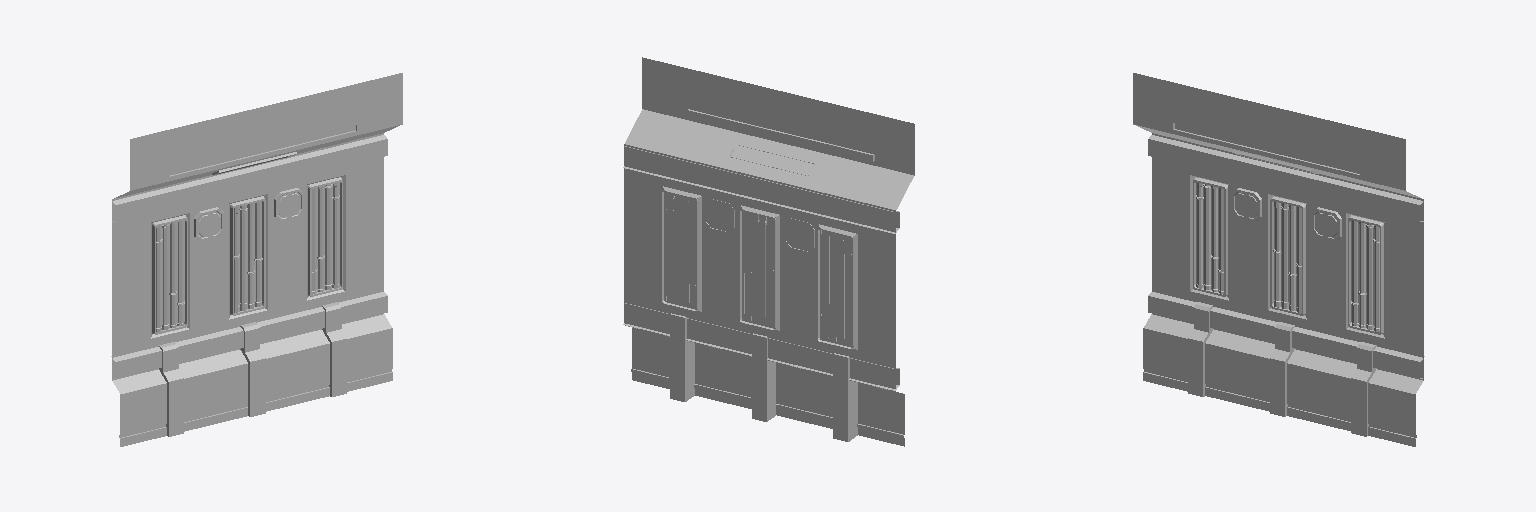
File: Wall_2.obj
The picture shows the model from 3 angles: view 1: azimuth 30°, elevation 25°; view 2: azimuth 150°, elevation 25°; view 3: azimuth 330°, elevation 25°; orthographic projection.
Parts seen in each view (by area): view 1: Wall_2_Plane.050; view 2: Wall_2_Plane.050; view 3: Wall_2_Plane.050.
Boxes of the visible parts, <box> form: Wall_2_Plane.050: <box>111,73,402,446</box>; Wall_2_Plane.050: <box>623,57,914,446</box>; Wall_2_Plane.050: <box>1133,73,1424,446</box>.
Bounding box in the file's own units: 4 × 4.43 × 0.5334.